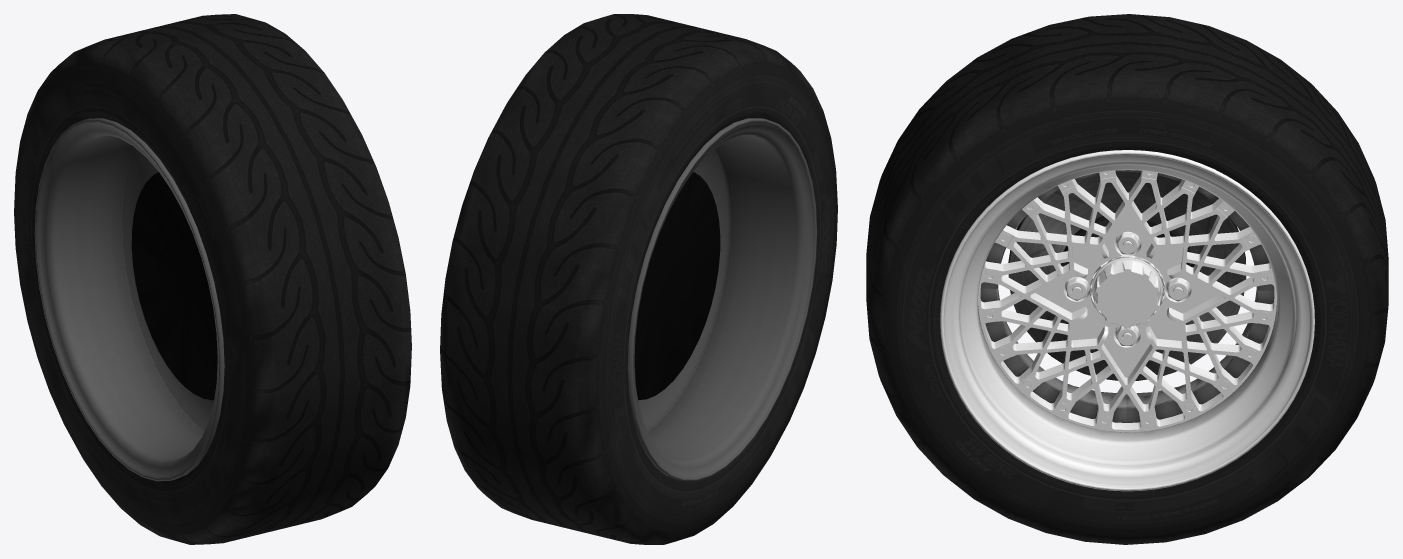
The model's file is wheel.fbx.
3 views of the same model, side by side, from view 1: azimuth 30°, elevation 25°; view 2: azimuth 150°, elevation 25°; view 3: azimuth 270°, elevation 25° (orthographic).
Visible parts, largest first — view 1: s13; view 2: s13; view 3: s13.
Part boxes in pixels (x1,y1,x2,y2): s13: [14, 14, 411, 544]; s13: [440, 14, 837, 544]; s13: [866, 14, 1388, 544].
Bounding box in the file's own units: 22.63 × 59.23 × 59.22.
